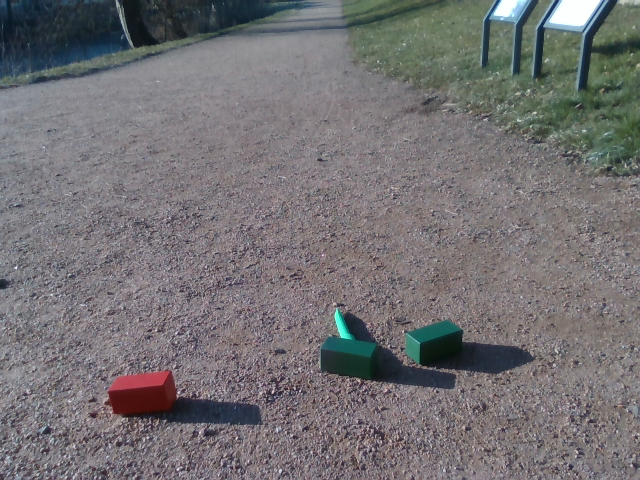Probe: (329, 305, 355, 342)
